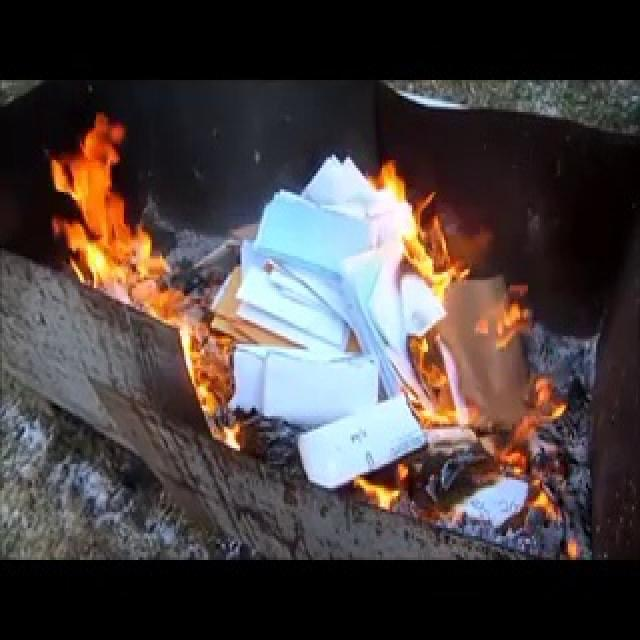fire: (369, 138, 499, 506), (23, 117, 179, 326)
